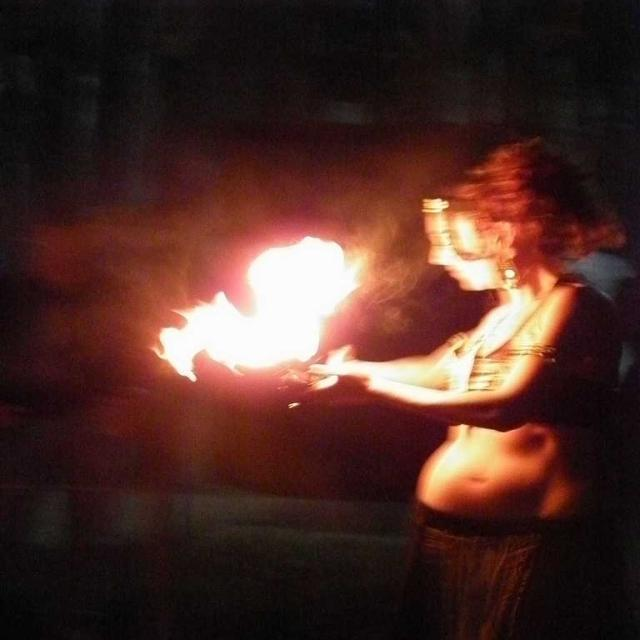Fire: (144, 240, 378, 390)
